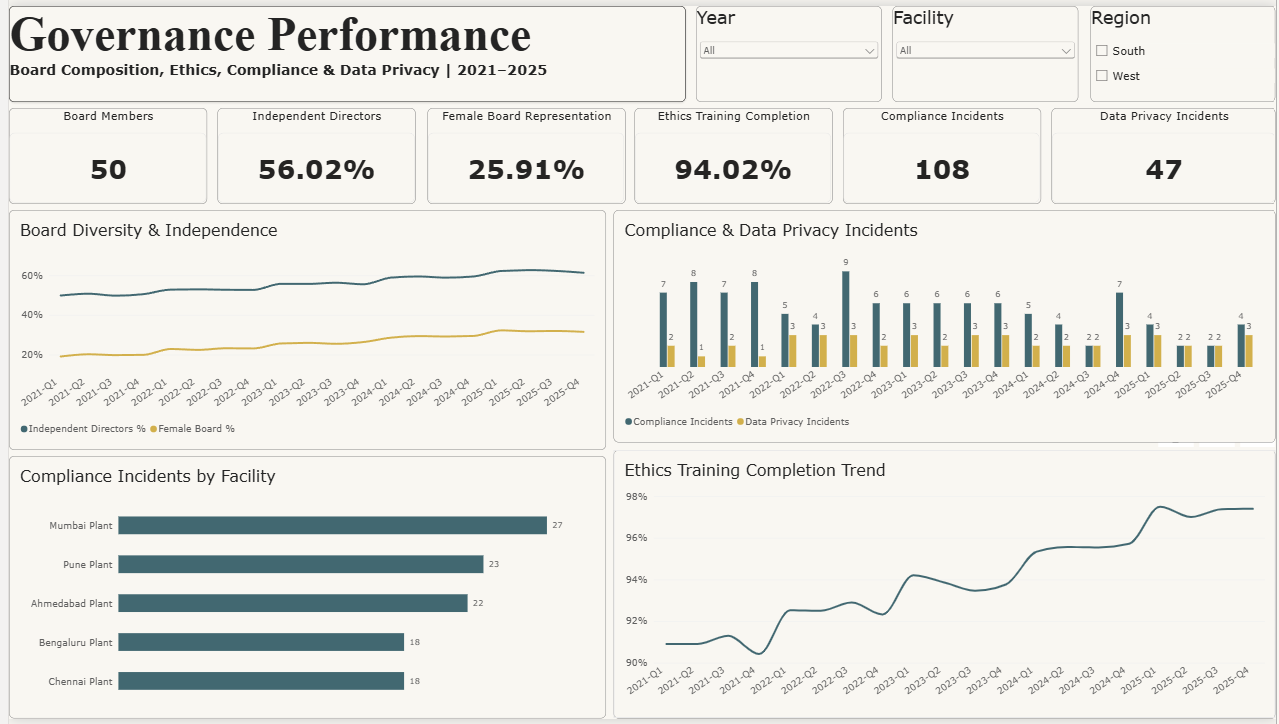

Layout of this report page (visuals, bound fields, positions):
{"tool":"powerbi","page":{"name":"Governance","canvas":[1920,1080],"ordinal":3},"visuals":[{"type":"cardVisual","title":"Board Members","fields":{"Data":["Measure.Latest Board Members"]},"box":[0,154.4,300,145],"z":0},{"type":"cardVisual","title":"Independent Directors","fields":{"Data":["Measure.Independent Directors %"]},"box":[315.7,154.4,300,145],"z":1},{"type":"cardVisual","title":"Female Board Representation","fields":{"Data":["Measure.Female Board %"]},"box":[633.7,154.4,299.8,145.4],"z":2},{"type":"cardVisual","title":"Ethics Training Completion","fields":{"Data":["Measure.Ethics Training Completion %"]},"box":[947.1,154.4,299.8,145.4],"z":3},{"type":"cardVisual","title":"Compliance Incidents","fields":{"Data":["Measure.Compliance Incidents"]},"box":[1262.8,154.4,299.8,145.4],"z":4},{"type":"cardVisual","title":"Data Privacy Incidents","fields":{"Data":["Measure.Data Privacy Incidents"]},"box":[1578.6,154.4,340.7,145.4],"z":5},{"type":"slicer","title":"Year","fields":{"Values":["DimYear.Year"]},"box":[1040.3,0,281.6,145.4],"z":6},{"type":"slicer","title":"Facility","fields":{"Values":["Facilities.Facility"]},"box":[1337.8,0,281.6,145.4],"z":7},{"type":"slicer","title":"Region","fields":{"Values":["Facilities.Region"]},"box":[1637.6,0,281.6,145.4],"z":8},{"type":"textbox","box":[0,0,1024.4,145.4],"z":9},{"type":"lineChart","title":"Board Diversity & Independence","fields":{"Category":["Governance.YearQuarter"],"Y":["Measure.Independent Directors %","Measure.Female Board %"]},"box":[0,308.9,904,363.4],"z":10},{"type":"lineChart","title":"Ethics Training Completion Trend","fields":{"Category":["Governance.YearQuarter"],"Y":["Measure.Ethics Training Completion %"]},"box":[915.3,672.3,1003.9,406.6],"z":11},{"type":"clusteredColumnChart","title":"Compliance & Data Privacy Incidents","fields":{"Category":["Governance.YearQuarter"],"Y":["Measure.Compliance Incidents","Measure.Data Privacy Incidents"]},"box":[915.3,308.9,1003.9,352.1],"z":12},{"type":"clusteredBarChart","title":"Compliance Incidents by Facility","fields":{"Category":["Facilities.Facility"],"Y":["Measure.Compliance Incidents"]},"box":[0,681.4,904,397.5],"z":13}]}

Visuals, with their boxes in screenshot pixels (x1, y1, x2, y2), scaled from the page's 1920x1080 canvas onto the 1279x724 screenshot:
"Board Members" cardVisual: 0/104/200/201
"Independent Directors" cardVisual: 210/104/410/201
"Female Board Representation" cardVisual: 422/104/622/201
"Ethics Training Completion" cardVisual: 631/104/831/201
"Compliance Incidents" cardVisual: 841/104/1041/201
"Data Privacy Incidents" cardVisual: 1052/104/1278/201
"Year" slicer: 693/0/881/97
"Facility" slicer: 891/0/1079/97
"Region" slicer: 1091/0/1278/97
textbox: 0/0/682/97
"Board Diversity & Independence" lineChart: 0/207/602/451
"Ethics Training Completion Trend" lineChart: 610/451/1278/723
"Compliance & Data Privacy Incidents" clusteredColumnChart: 610/207/1278/443
"Compliance Incidents by Facility" clusteredBarChart: 0/457/602/723
